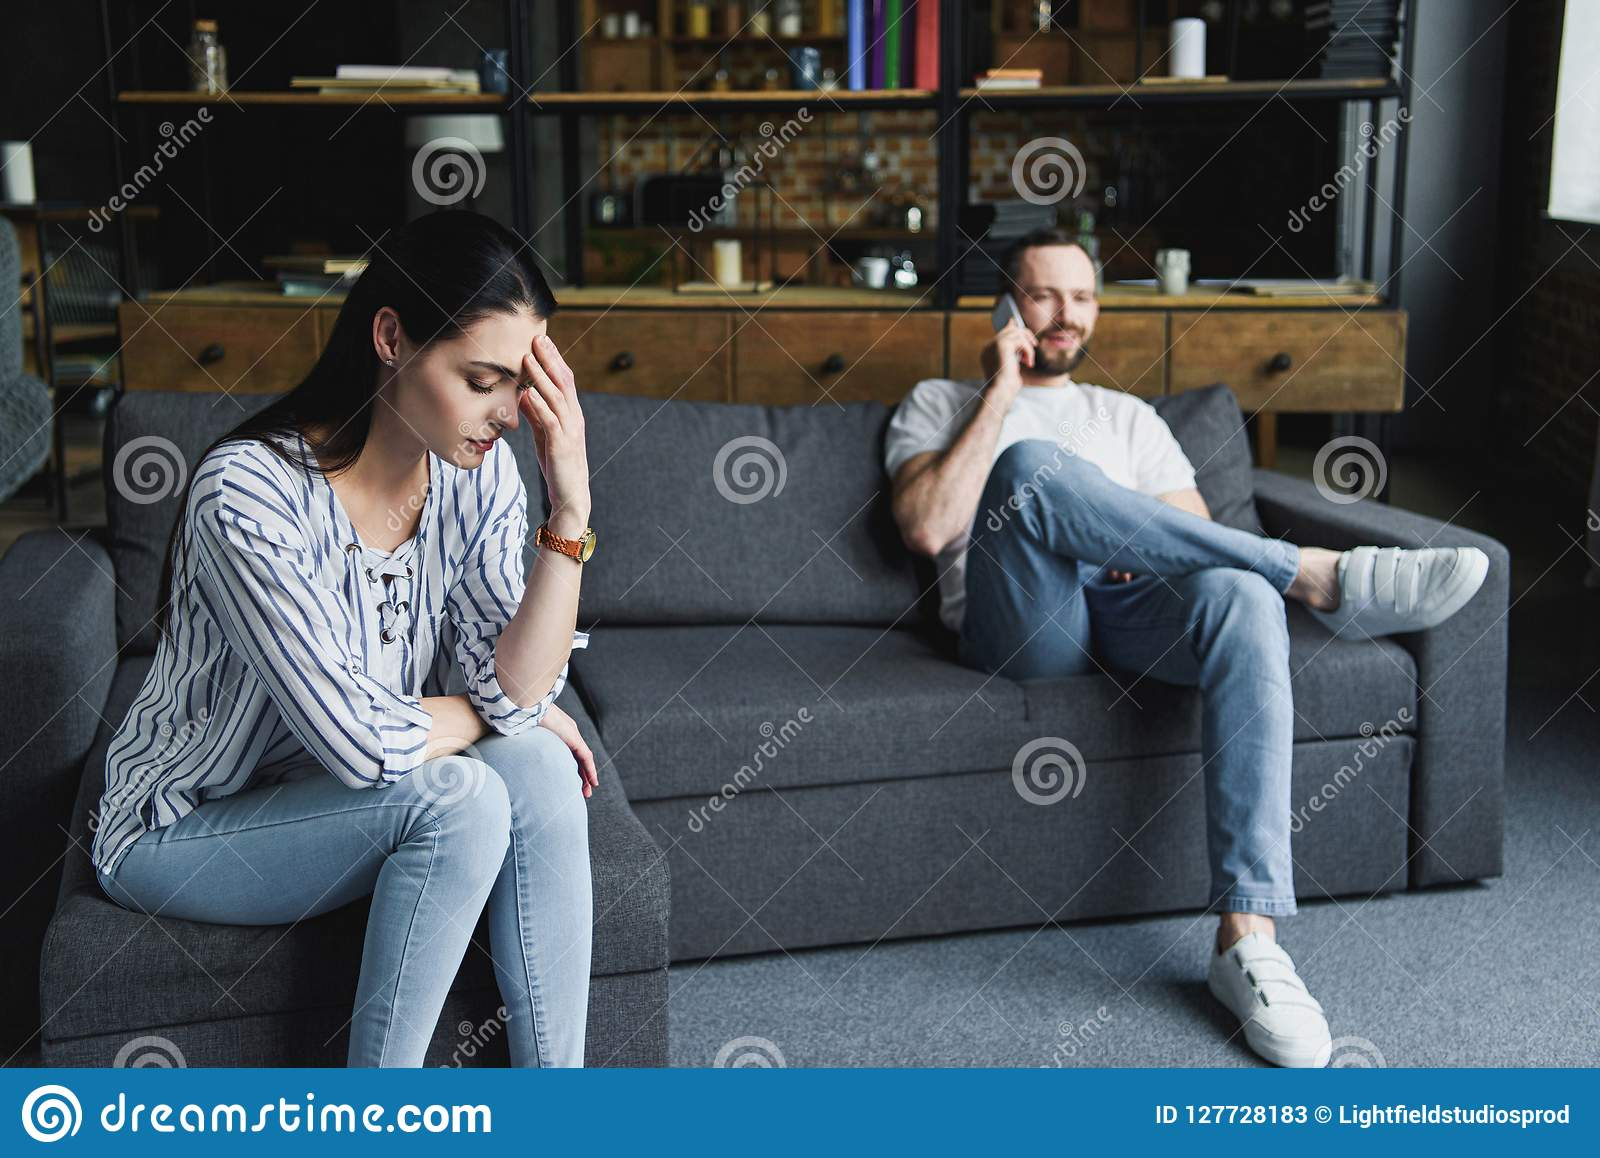phone: (988, 287, 1099, 398), (993, 297, 1037, 372)
